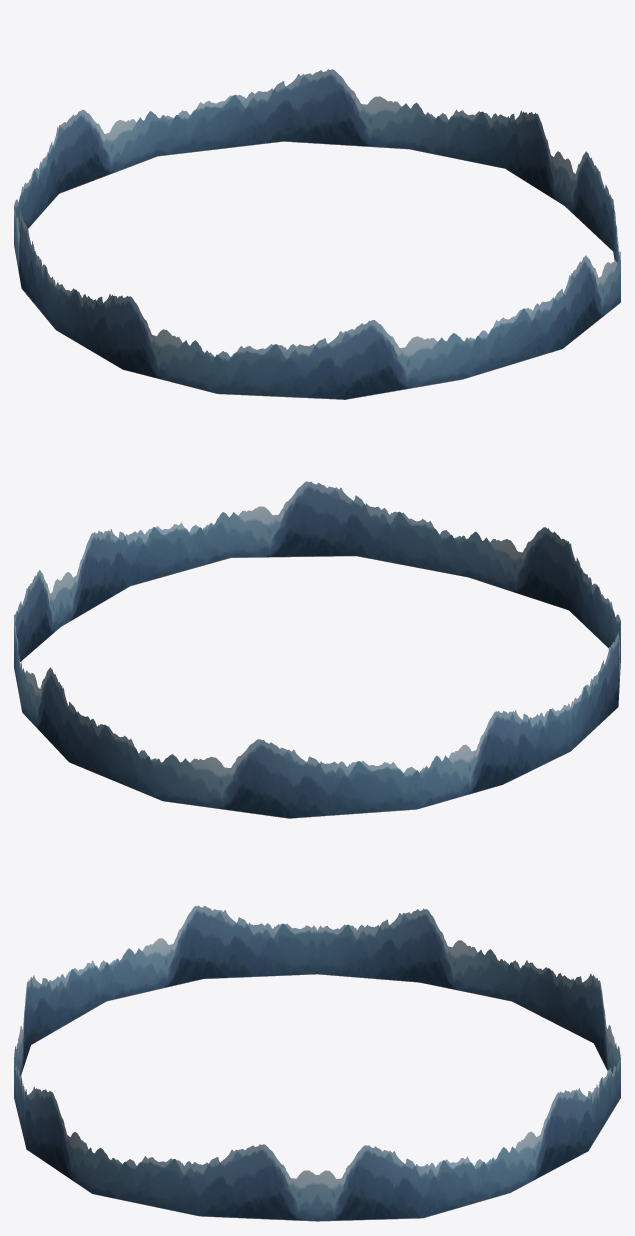
The model's file is beijing.FBX.
The picture shows the model from 3 angles, top to bottom: view 1: azimuth 30°, elevation 25°; view 2: azimuth 150°, elevation 25°; view 3: azimuth 270°, elevation 25°; orthographic projection.
Visible parts, largest first — view 1: Plane001; view 2: Plane001; view 3: Plane001.
Part boxes in pixels (bbox=[...]): Plane001: bbox=[14, 69, 620, 399]; Plane001: bbox=[14, 481, 620, 818]; Plane001: bbox=[14, 905, 620, 1221].
Bounding box in the file's own units: 470 × 113 × 488.
1 material, 1 textured.
